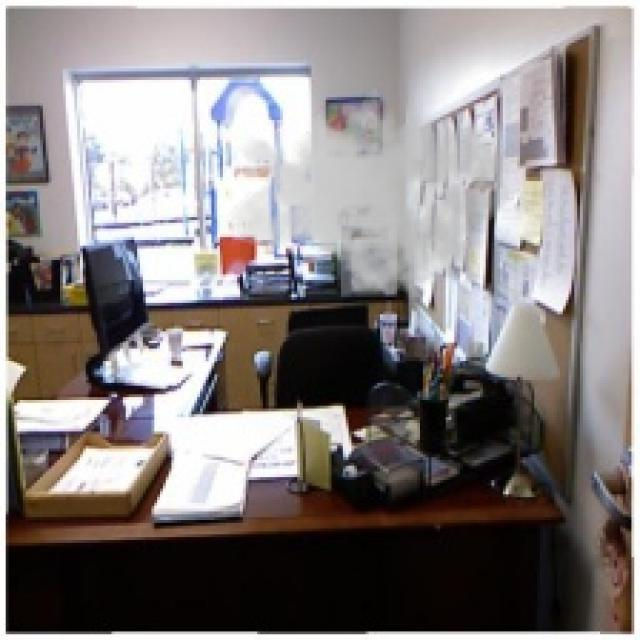Smoke: (228, 77, 512, 306)
